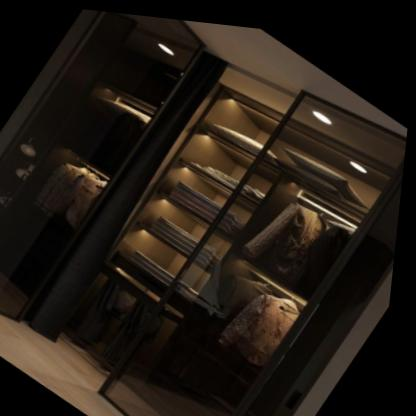Transparent Closet: (66, 60, 409, 416)
